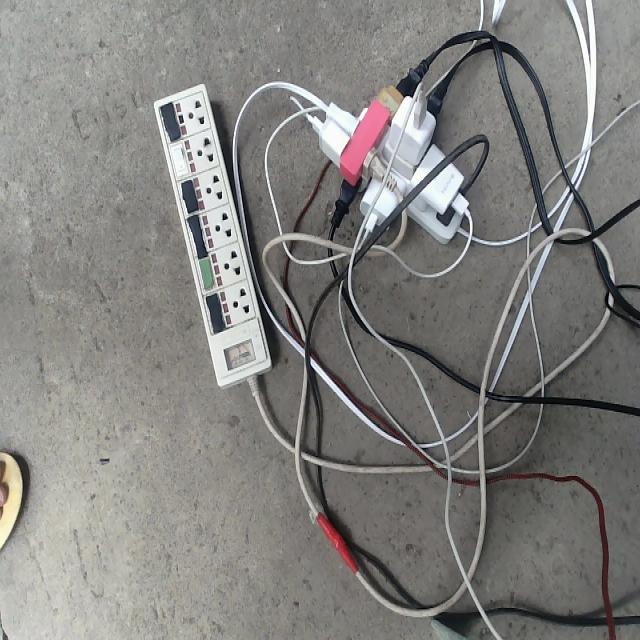-: (305, 56, 476, 245)
